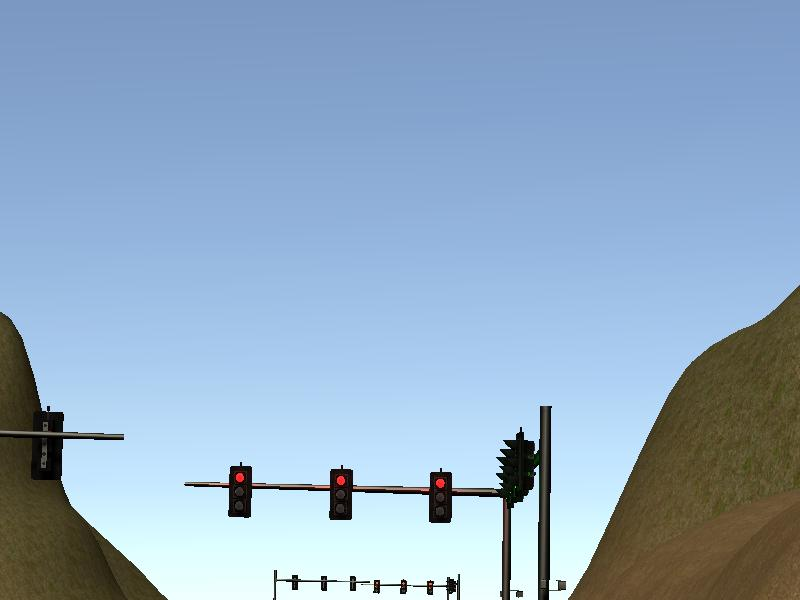Red: (429, 472, 452, 522), (230, 465, 252, 517), (330, 468, 352, 520)
